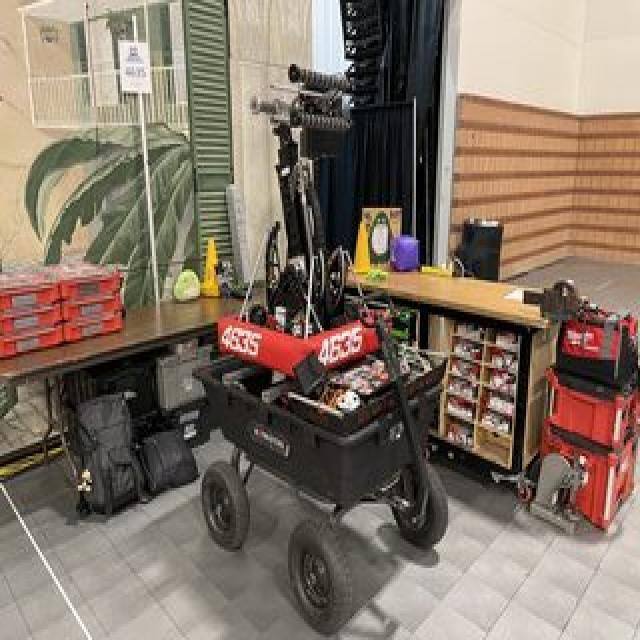robot: (198, 57, 395, 377)
